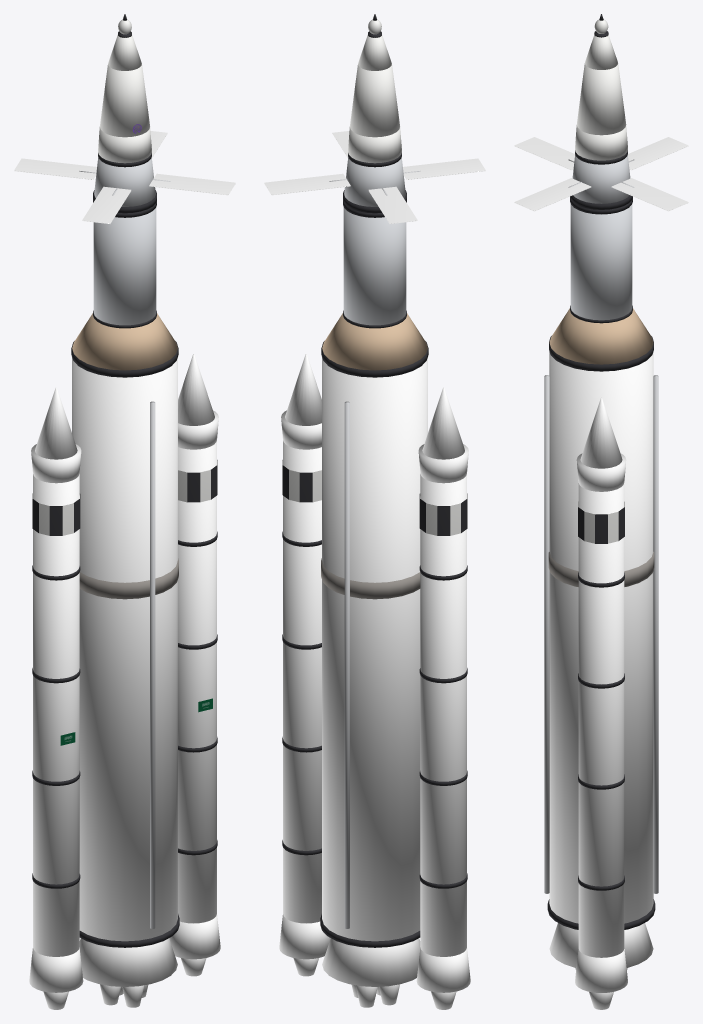
The model's file is SLS_Artemis_II_Rocket.glb.
3 renders of one model, left to right at view 1: azimuth 30°, elevation 25°; view 2: azimuth 150°, elevation 25°; view 3: azimuth 270°, elevation 25°, orthographic.
Parts seen in each view (by area): view 1: Core_Stage, SRB_L_Body, SRB_R_Body, ICPS_Upper_Stage, LVSA_Frustum, Engine_Skirt, Core_Feedline_270, Cabin_Ogive_Mid, SRB_L_Aft_Skirt, Orion_Service_Module, SRB_L_Nose, SRB_R_Aft_Skirt (+11 smaller); view 2: Core_Stage, SRB_L_Body, SRB_R_Body, ICPS_Upper_Stage, LVSA_Frustum, Engine_Skirt, Core_Feedline_90, Cabin_Ogive_Mid, SRB_L_Aft_Skirt, Orion_Service_Module, SRB_L_Nose, SRB_R_Aft_Skirt (+11 smaller); view 3: Core_Stage, SRB_R_Body, ICPS_Upper_Stage, LVSA_Frustum, Core_Feedline_270, Core_Feedline_90, Cabin_Ogive_Mid, Orion_Service_Module, Engine_Skirt, SRB_R_Aft_Skirt, SRB_R_Nose, Cabin_Base_Section (+10 smaller).
Part boxes in pixels (<box>): Core_Stage: <box>72,357,177,941</box>; SRB_L_Body: <box>33,474,79,956</box>; SRB_R_Body: <box>178,441,216,923</box>; ICPS_Upper_Stage: <box>93,207,156,325</box>; LVSA_Frustum: <box>72,313,177,370</box>; Engine_Skirt: <box>79,938,177,986</box>; Core_Feedline_270: <box>150,401,155,928</box>; Cabin_Ogive_Mid: <box>100,64,149,137</box>; SRB_L_Aft_Skirt: <box>29,947,83,992</box>; Orion_Service_Module: <box>94,157,155,206</box>; SRB_L_Nose: <box>35,387,77,459</box>; SRB_R_Aft_Skirt: <box>169,914,220,959</box>; Core_Stage: <box>322,357,427,941</box>; SRB_L_Body: <box>420,474,466,956</box>; SRB_R_Body: <box>283,441,321,923</box>; ICPS_Upper_Stage: <box>343,207,406,325</box>; LVSA_Frustum: <box>322,313,427,370</box>; Engine_Skirt: <box>322,938,420,986</box>; Core_Feedline_90: <box>344,401,349,928</box>; Cabin_Ogive_Mid: <box>350,64,399,137</box>; SRB_L_Aft_Skirt: <box>416,947,470,992</box>; Orion_Service_Module: <box>344,157,405,206</box>; SRB_L_Nose: <box>422,387,464,459</box>; SRB_R_Aft_Skirt: <box>279,914,330,959</box>; Core_Stage: <box>549,351,653,923</box>; SRB_R_Body: <box>578,483,624,957</box>; ICPS_Upper_Stage: <box>570,204,632,320</box>; LVSA_Frustum: <box>549,308,653,364</box>; Core_Feedline_270: <box>544,375,549,893</box>; Core_Feedline_90: <box>653,375,658,893</box>; Cabin_Ogive_Mid: <box>576,63,626,135</box>; Orion_Service_Module: <box>572,155,630,203</box>; Engine_Skirt: <box>549,923,653,967</box>; SRB_R_Aft_Skirt: <box>575,949,627,992</box>; SRB_R_Nose: <box>580,398,622,468</box>; Cabin_Base_Section: <box>575,125,627,160</box>.
Size of the model in its own units: 16.9 by 86.25 by 14.07.
12 materials, 2 textured.
